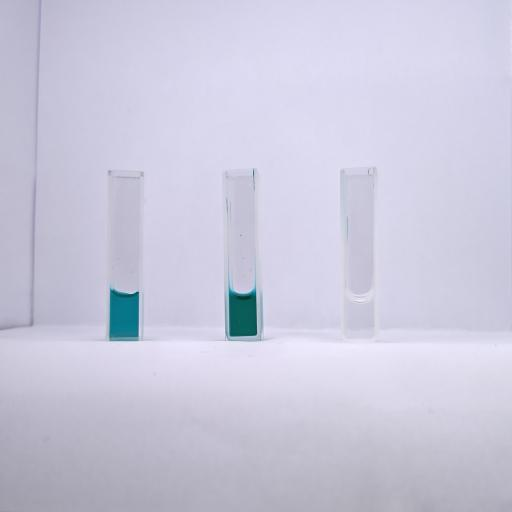cuvette: (220, 168, 265, 342), (339, 164, 380, 344), (104, 168, 146, 342)
liquid: (345, 292, 375, 338), (110, 290, 138, 337), (229, 291, 257, 336)
